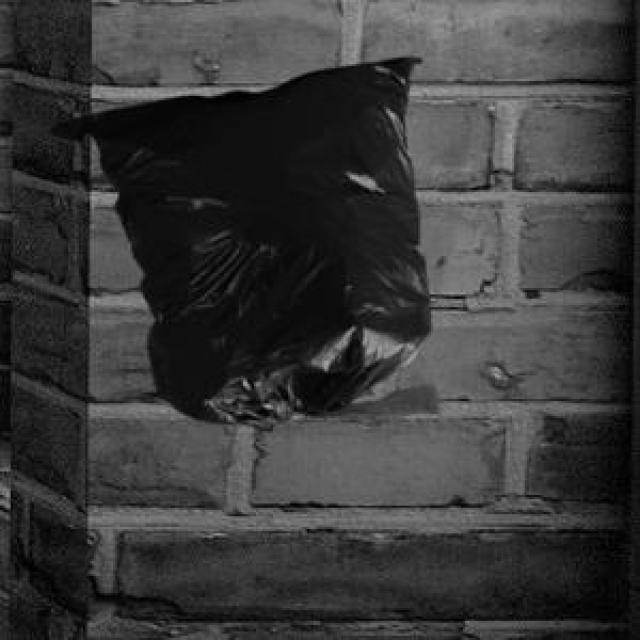miscellaneous trash: (47, 53, 437, 427)
